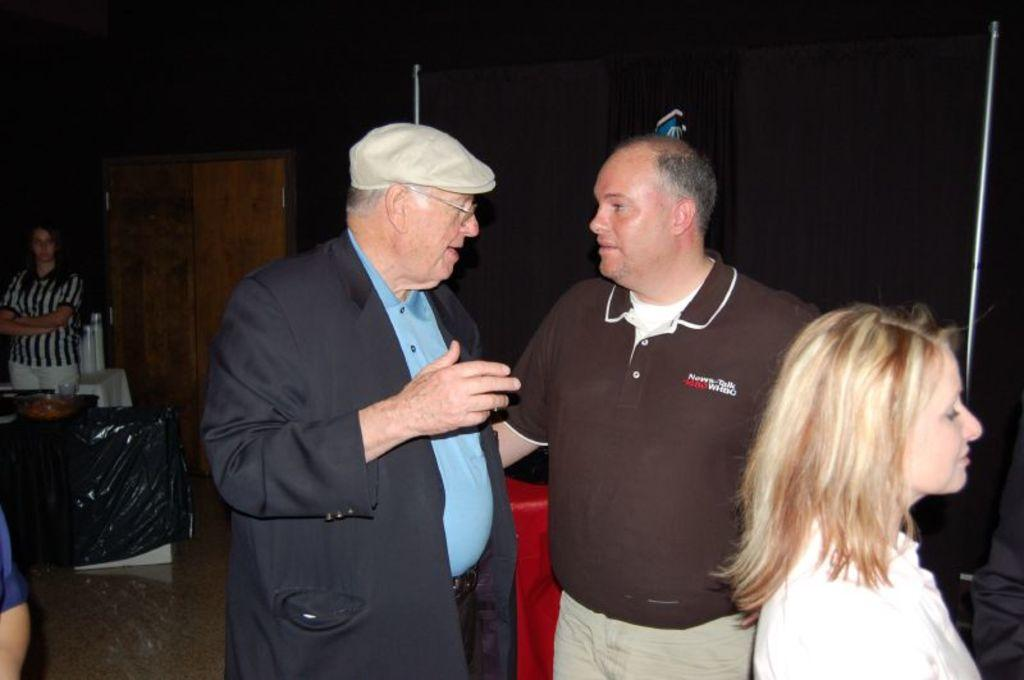Hat: (347, 118, 497, 190)
